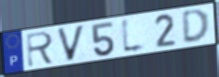2: (153, 13, 178, 49)
5: (89, 20, 116, 58)
D: (180, 8, 212, 45)
L: (120, 16, 149, 56)
R: (25, 30, 56, 69)
V: (55, 23, 87, 63)
